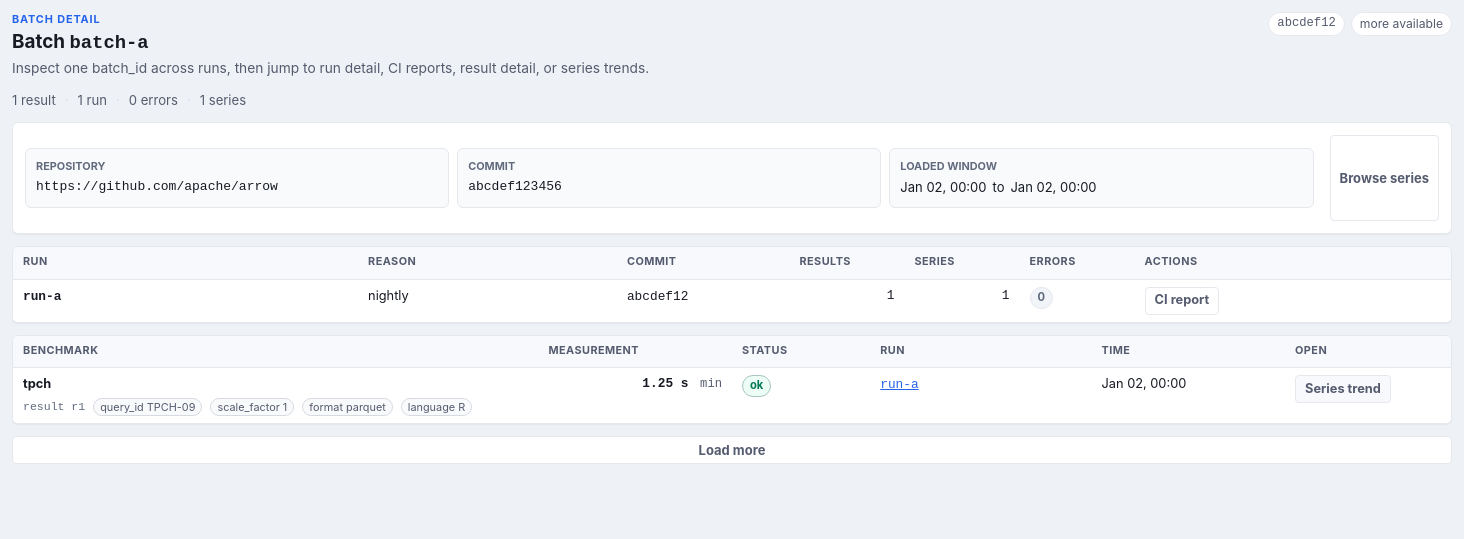
Test: BatchPage › loads more results, appends them, and preserves the first page context
This screenshot has width=1464, height=539.
Check: the text "result r1" is shown, box [23,398,85,415]
Click the button "Load more": point(732, 450) [12,436,1452,464]
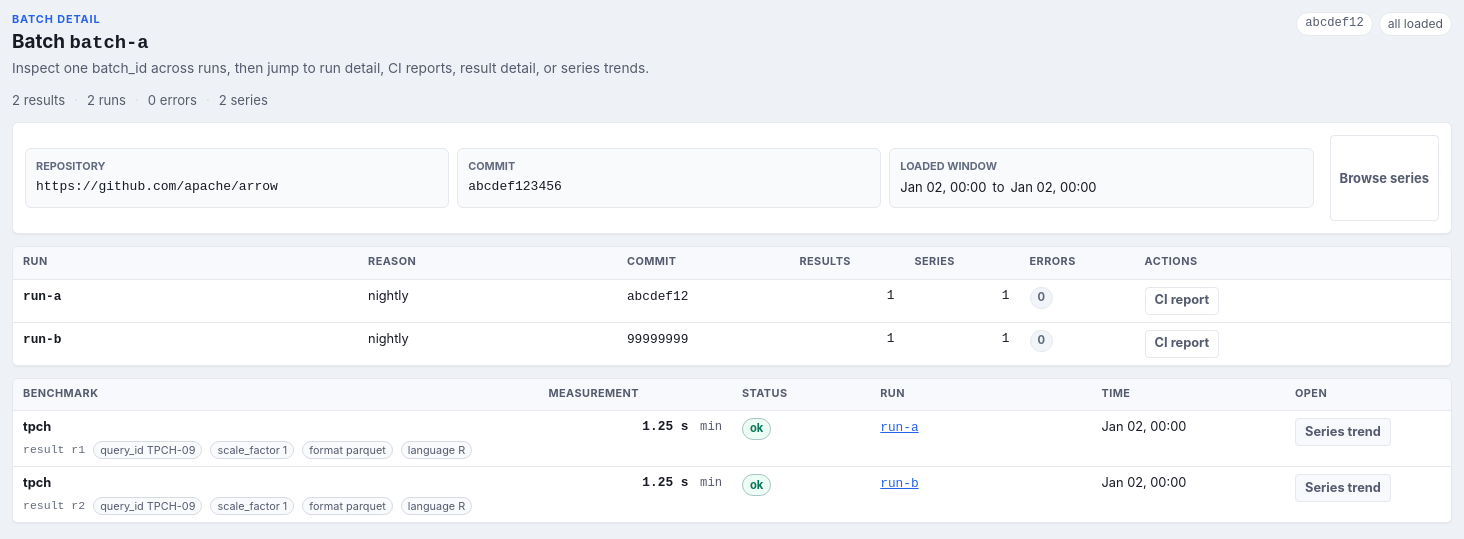
Check: the text "repository" is shown, box [36,159,105,173]
Check: the text "result r2" is shown, box [23,498,85,514]
Check: the button "Load more" is gone
